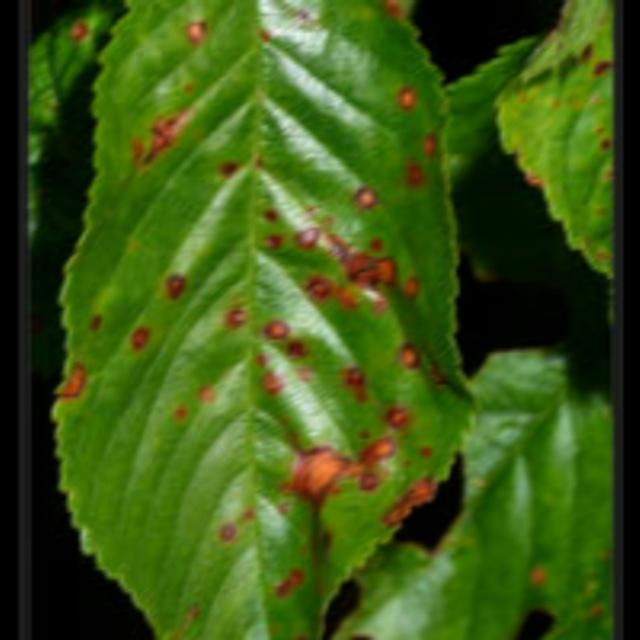shot_hole: (41, 0, 477, 639)
